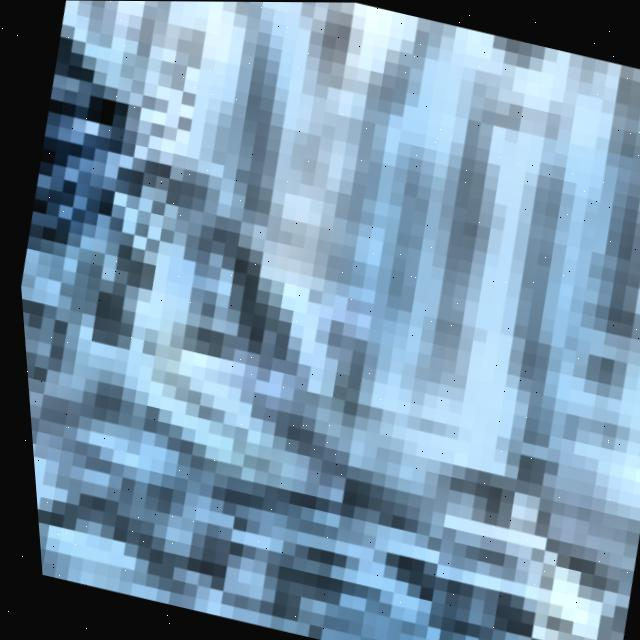plastic: (1, 23, 640, 640)
